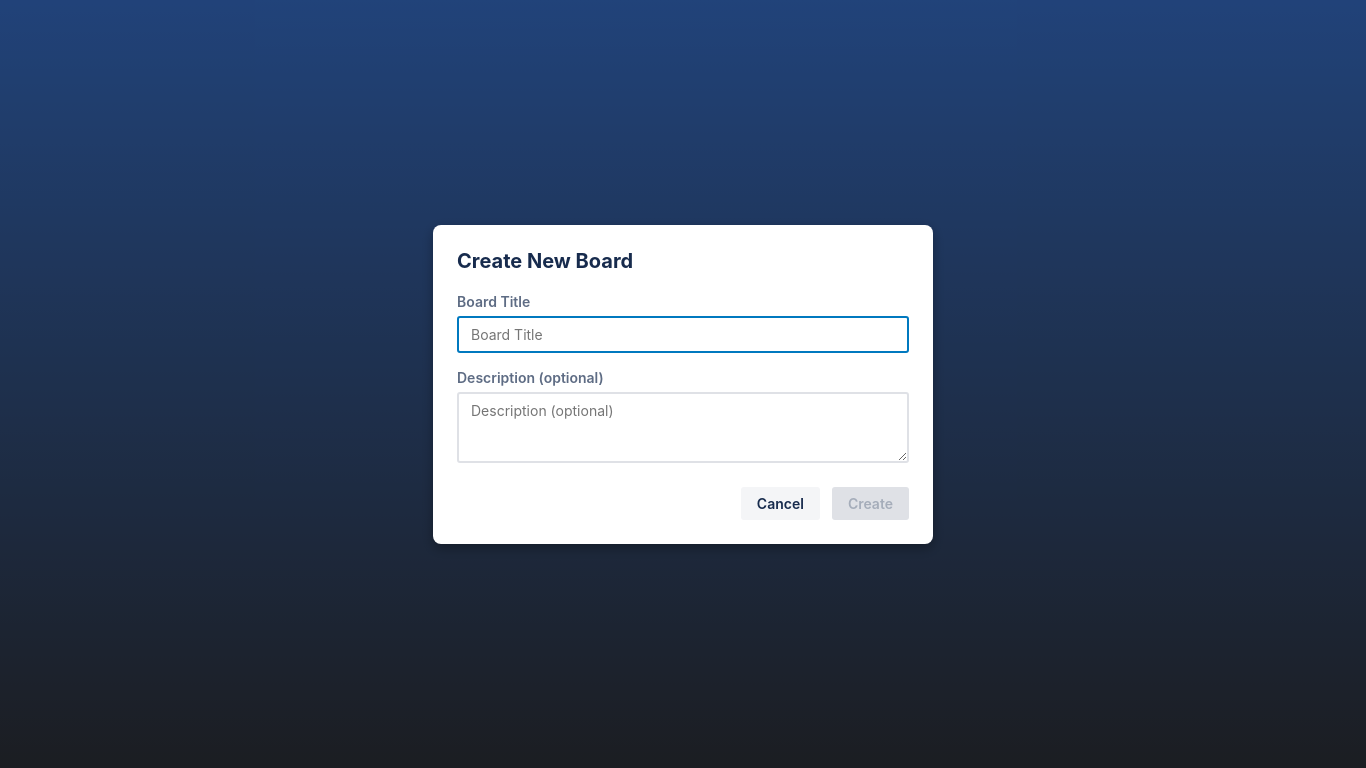
Test: CreateBoardModal › Submit button state › should enable submit button when title is not empty
Type "Valid Title" into the field with placeholder "Board Title".
click(683, 334); type("Valid Title")  # box [457, 316, 909, 352]
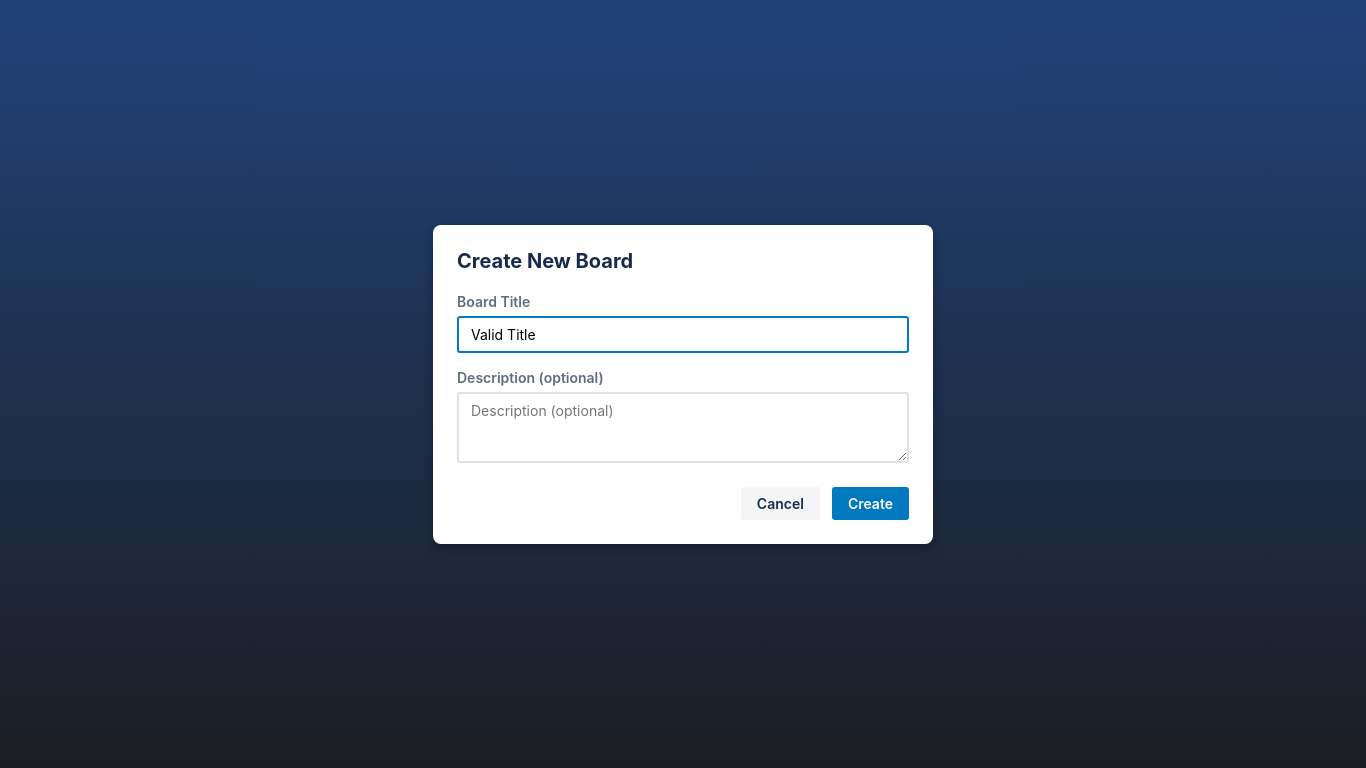
Check: the button "Create" is enabled, box [832, 486, 909, 520]
